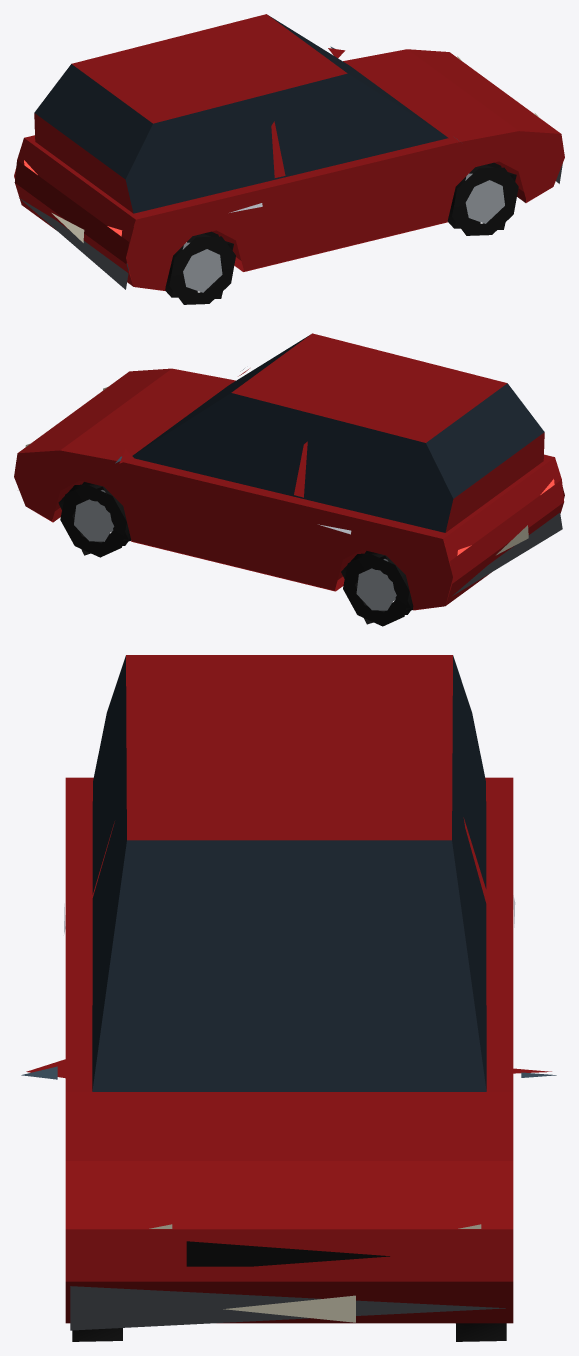
Rendered from hatchback_lod1.glb.
The picture shows the model from 3 angles, top to bottom: view 1: azimuth 30°, elevation 25°; view 2: azimuth 150°, elevation 25°; view 3: azimuth 270°, elevation 25°; orthographic projection. The views are drawn at different scales.
Visible parts, largest first — view 1: hatchback_body, wheel_rr.002, wheel_fr; view 2: hatchback_body, wheel_rl.002, wheel_fl; view 3: hatchback_body, wheel_fl.
Part boxes in pixels (x1,y1,x2,y2): hatchback_body: (14, 14, 564, 290); wheel_rr.002: (165, 231, 235, 304); wheel_fr: (447, 162, 518, 235); hatchback_body: (14, 333, 564, 610); wheel_rl.002: (341, 551, 413, 626); wheel_fl: (58, 482, 131, 557); hatchback_body: (21, 655, 556, 1330); wheel_fl: (456, 1323, 506, 1341).
Bounding box in the file's own units: 3.87 × 1.53 × 2.02.
Materials: 2 (1 with a texture image).
